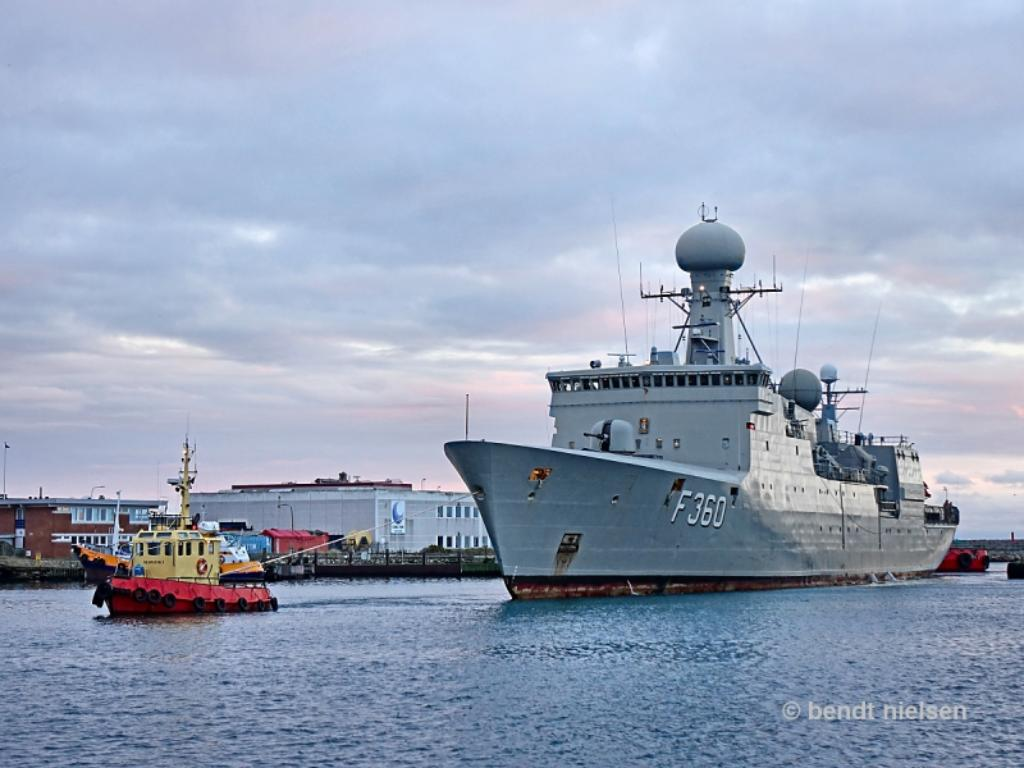Warship: (440, 198, 962, 606)
